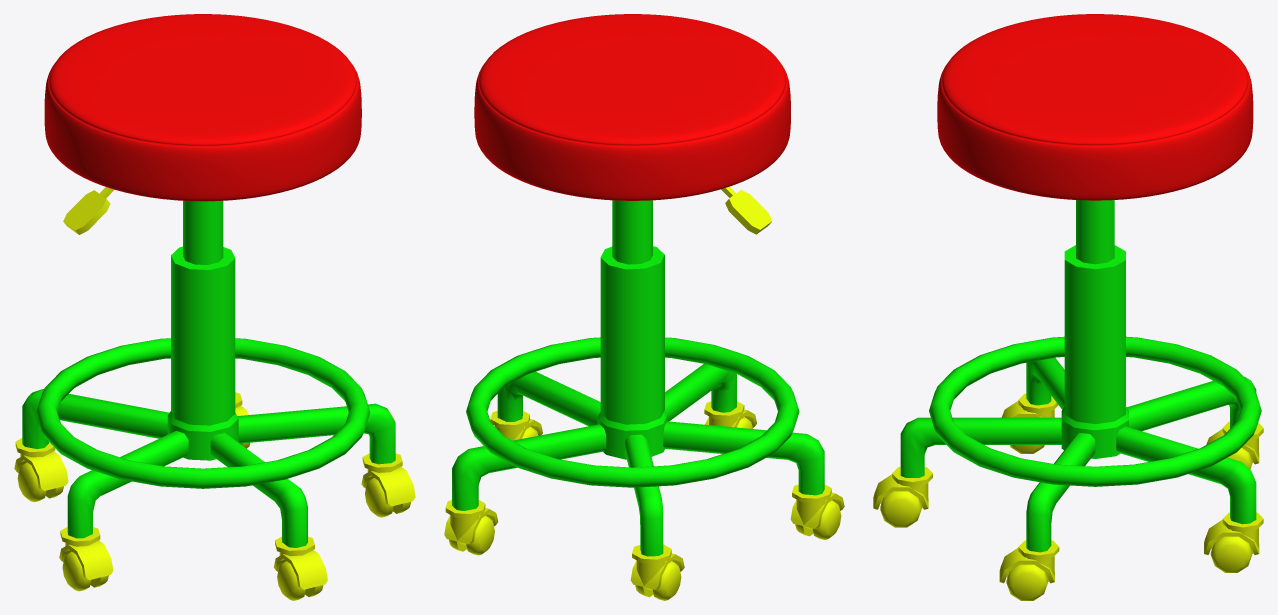
The model's file is uploads_files_3691978_matID.fbx.
3 renders of one model, left to right at view 1: azimuth 30°, elevation 25°; view 2: azimuth 150°, elevation 25°; view 3: azimuth 270°, elevation 25°, orthographic.
Visible parts, largest first — view 1: Cylinder003, shelf001, w009, w007, w006, w008, handle001; view 2: Cylinder003, shelf001, w008, w007, w010, handle001, w006, w009; view 3: Cylinder003, shelf001, w006, w009, w010, w007, w008.
Boxes of the visible parts, <box> form: Cylinder003: <box>44,14,361,201</box>; shelf001: <box>22,200,395,547</box>; w009: <box>361,453,415,517</box>; w007: <box>59,527,113,591</box>; w006: <box>273,536,327,600</box>; w008: <box>14,438,68,502</box>; handle001: <box>63,187,114,234</box>; Cylinder003: <box>474,14,790,200</box>; shelf001: <box>452,200,824,556</box>; w008: <box>630,544,684,600</box>; w007: <box>790,484,844,539</box>; w010: <box>444,500,498,555</box>; handle001: <box>721,186,772,234</box>; w006: <box>704,401,756,428</box>; w009: <box>490,411,542,440</box>; Cylinder003: <box>937,14,1253,200</box>; shelf001: <box>900,200,1261,552</box>; w006: <box>873,467,932,527</box>; w009: <box>999,540,1059,600</box>; w010: <box>1204,512,1263,572</box>; w007: <box>1001,393,1058,453</box>; w008: <box>1206,421,1263,469</box>.
Bounding box in the file's own units: 36.19 × 45.97 × 36.36.
